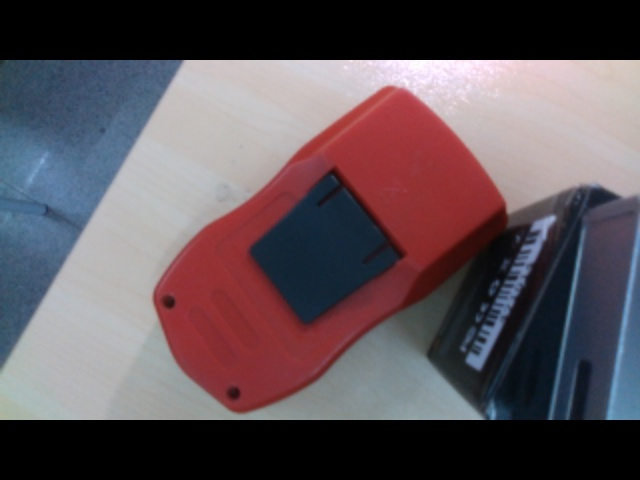Multimeter: (150, 85, 509, 413)
Screw holes: (225, 385, 244, 402), (160, 295, 177, 310)
